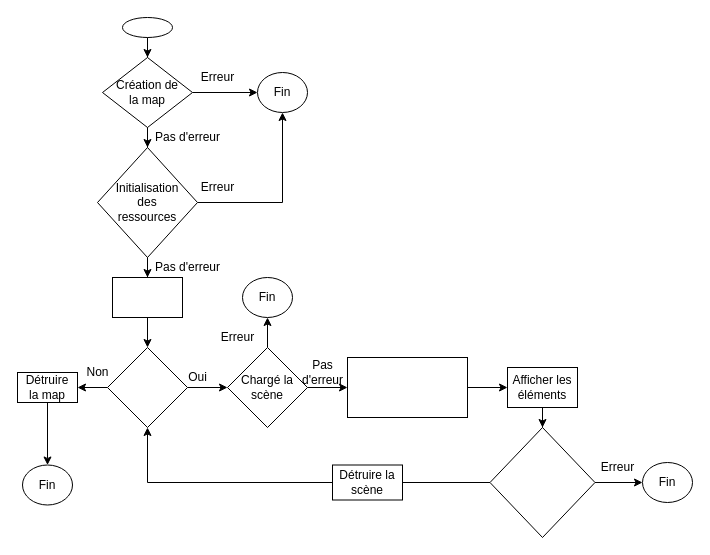
Some shapes in this 710 by 555 pixel diagram are drawn without their labels. The shapes that lost their labels are listed below. From the top down, each one's centre as x and y in pixels, then its label:
At [147,27]: "Début".
At [147,297]: "Lancement du jeu".
At [147,387]: "Scene != fin".
At [407,387]: "Mettre à jour les éléments (animations, boutons)".
At [542,482]: "Mettre à jour les évènements".
